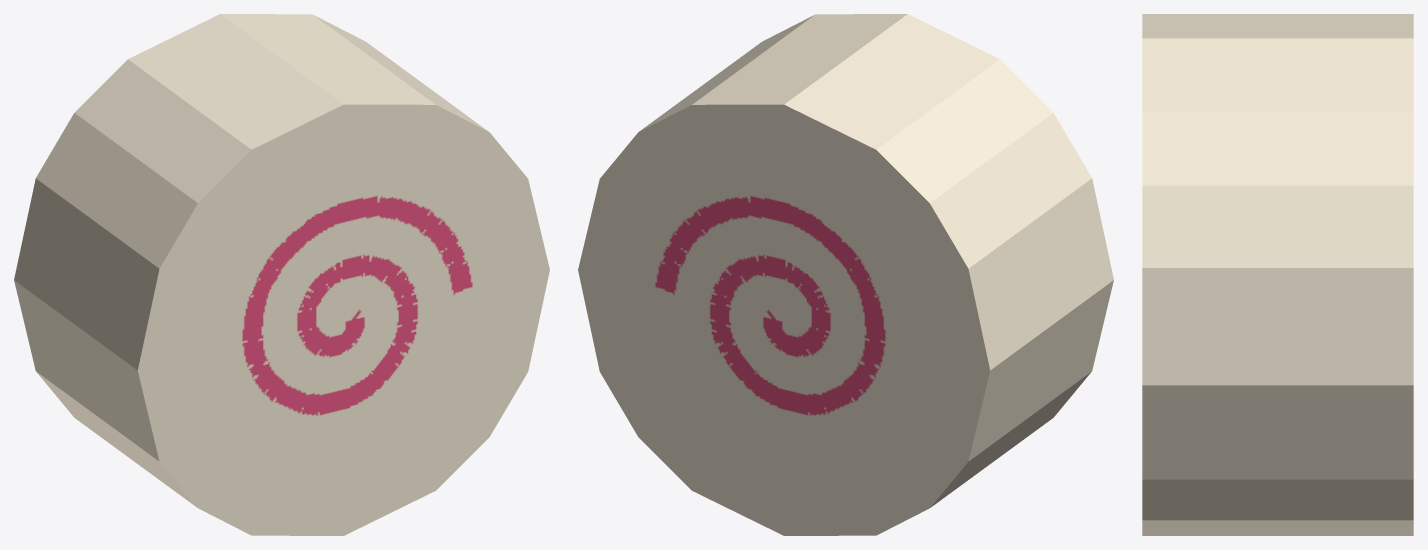
The model's file is fish_cake.obj.
3 views of the same model, side by side, from view 1: azimuth 30°, elevation 25°; view 2: azimuth 150°, elevation 25°; view 3: azimuth 270°, elevation 25° (orthographic). The views are drawn at different scales.
Size of the model in its own units: 0.05 by 0.05 by 0.026.
1 material, 1 textured.
